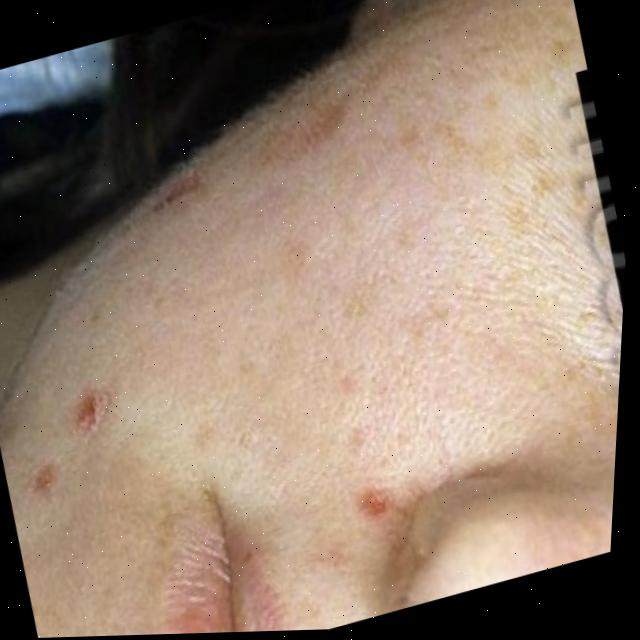Rosacea: (346, 471, 408, 528), (60, 380, 113, 442), (17, 457, 63, 501)
